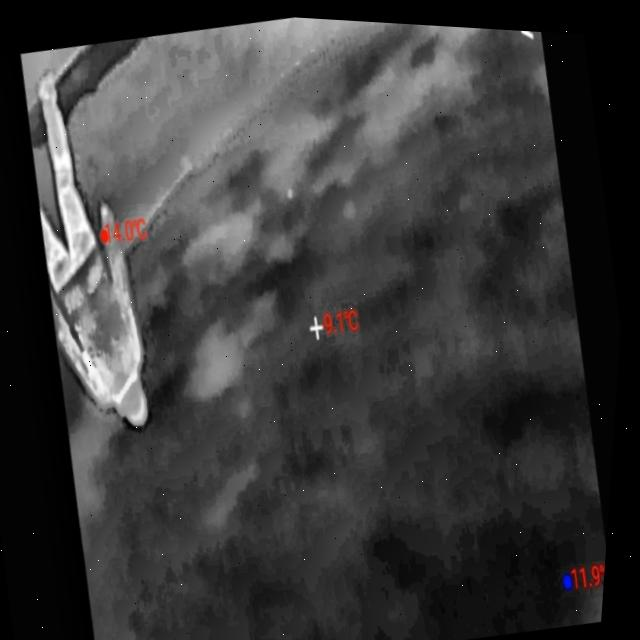drone: (285, 182, 297, 198)
